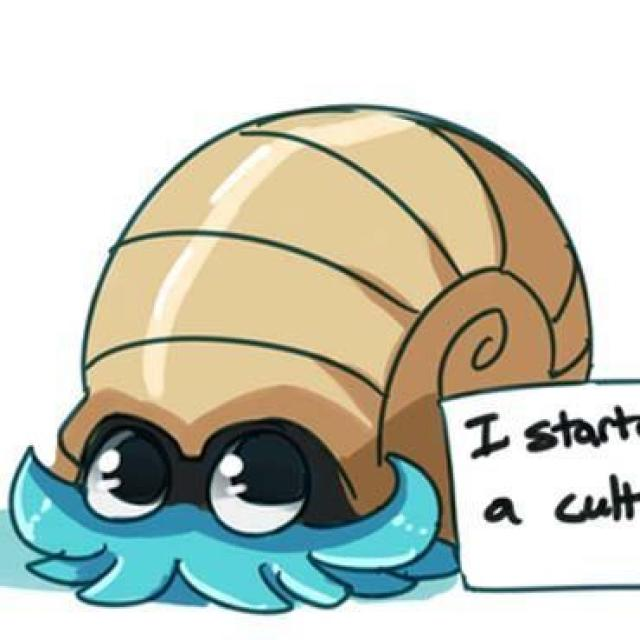Omanyte: (0, 83, 575, 605)
